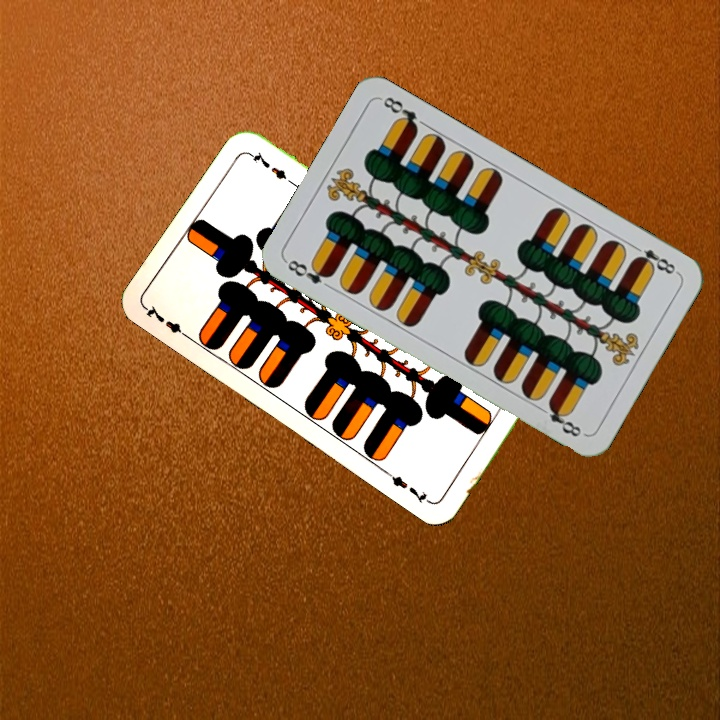E7: (141, 301, 193, 342)
E8: (627, 240, 681, 277), (282, 255, 336, 287)
